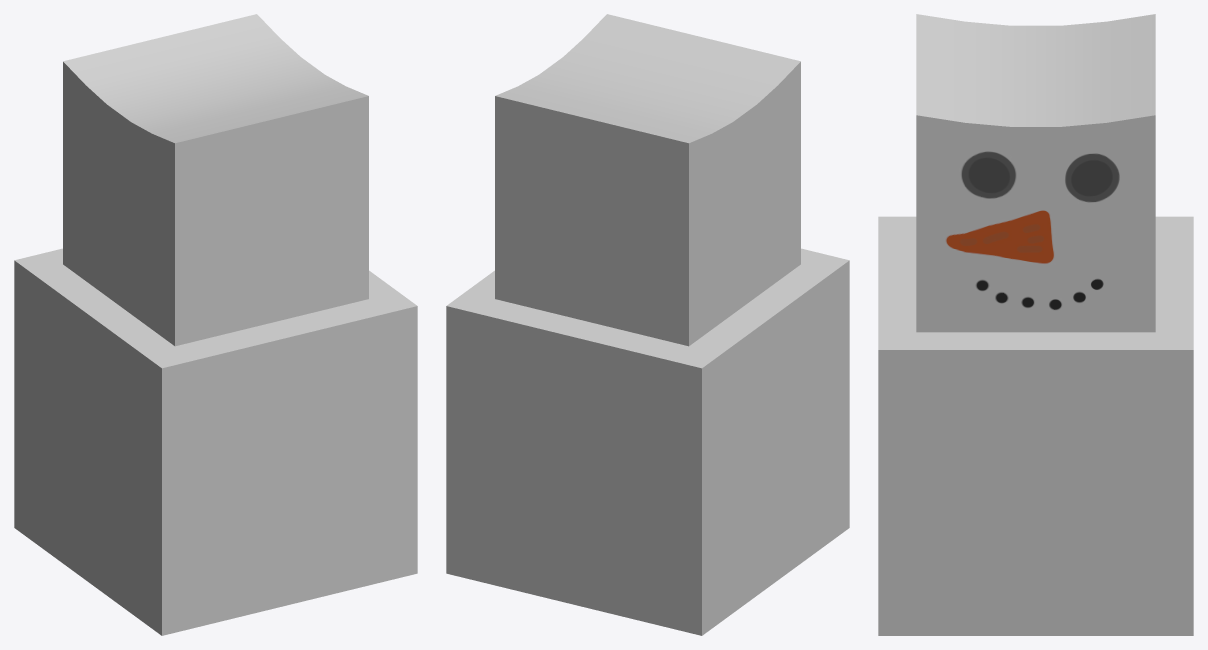
File: snowman.fbx
3 views of the same model, side by side, from view 1: azimuth 30°, elevation 25°; view 2: azimuth 150°, elevation 25°; view 3: azimuth 270°, elevation 25° (orthographic). The views are drawn at different scales.
Parts seen in each view (by area): view 1: Cube.002; view 2: Cube.002; view 3: Cube.002.
Part boxes in pixels (bbox=[...]): Cube.002: bbox=[14, 14, 417, 635]; Cube.002: bbox=[446, 14, 849, 635]; Cube.002: bbox=[878, 14, 1193, 635].
Size of the model in its own units: 200 by 353 by 200.
